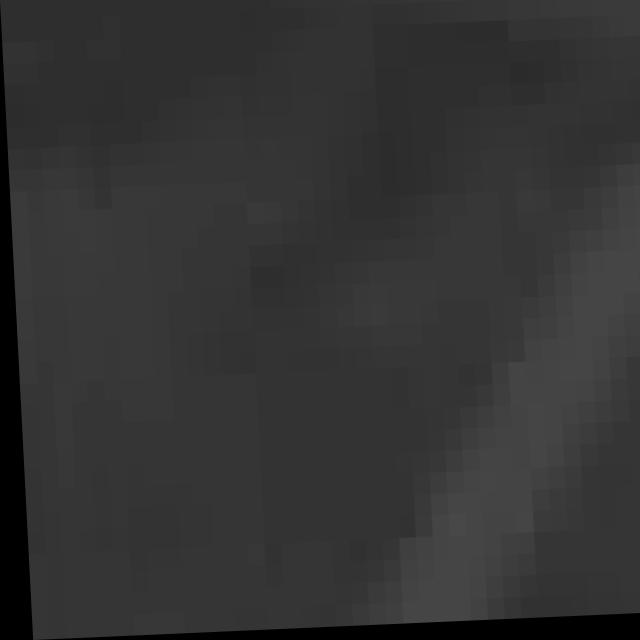fracture: (21, 3, 640, 631)
